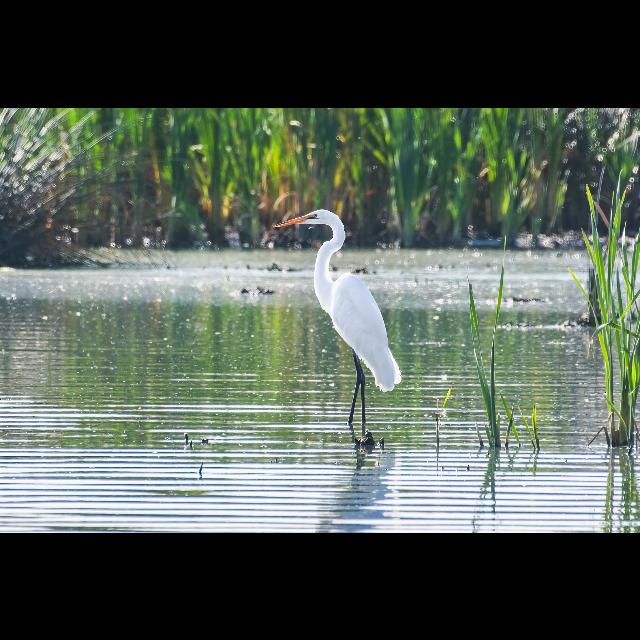egret: (272, 208, 402, 428)
